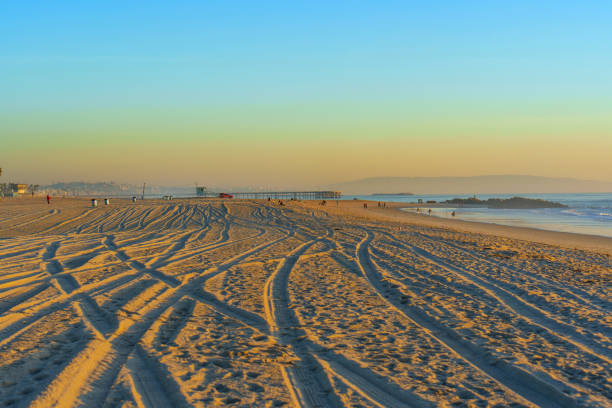vehicle_track: (102, 240, 405, 406), (32, 235, 288, 406), (356, 229, 576, 407), (36, 239, 195, 407), (397, 242, 611, 363), (412, 232, 611, 310), (264, 239, 341, 406)
